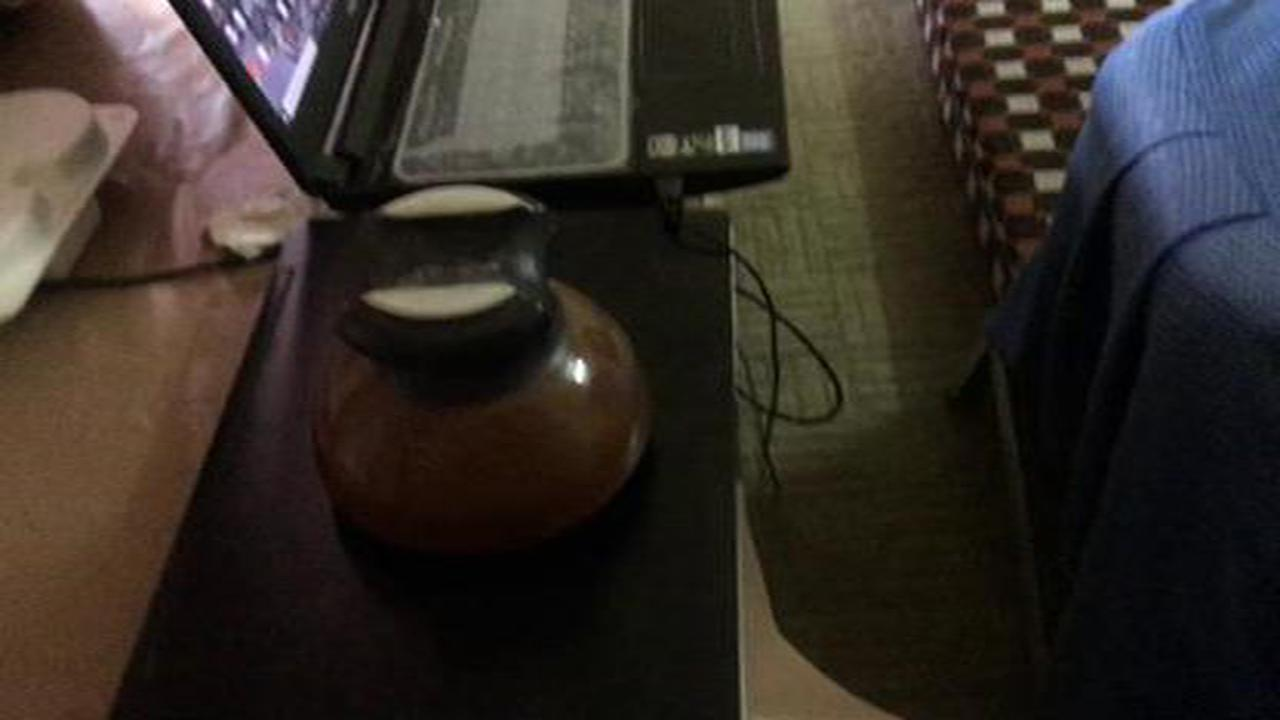insulator_pin: (293, 173, 662, 587)
